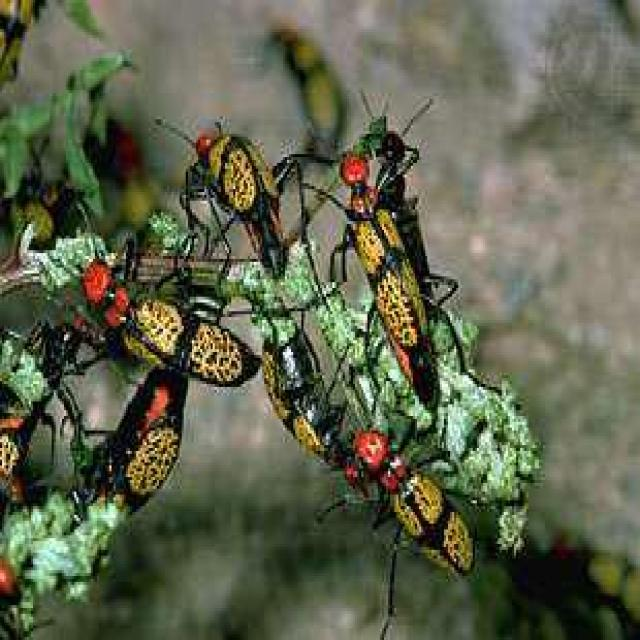BlisterBeetle-Adult-: (314, 136, 443, 416), (331, 413, 481, 594), (68, 253, 267, 387), (166, 105, 305, 278)
